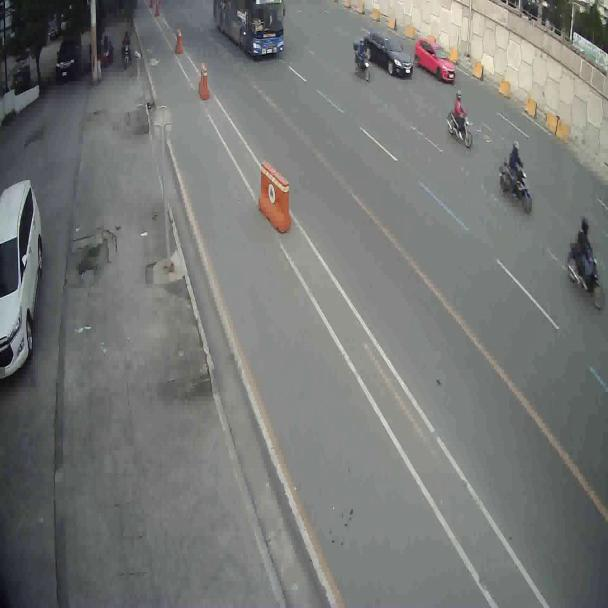motorcyclist: (566, 216, 603, 306), (500, 145, 531, 212), (447, 93, 472, 148), (351, 35, 372, 80)
vehicle: (0, 167, 46, 387), (214, 1, 286, 60), (362, 27, 416, 78), (413, 34, 460, 83)
